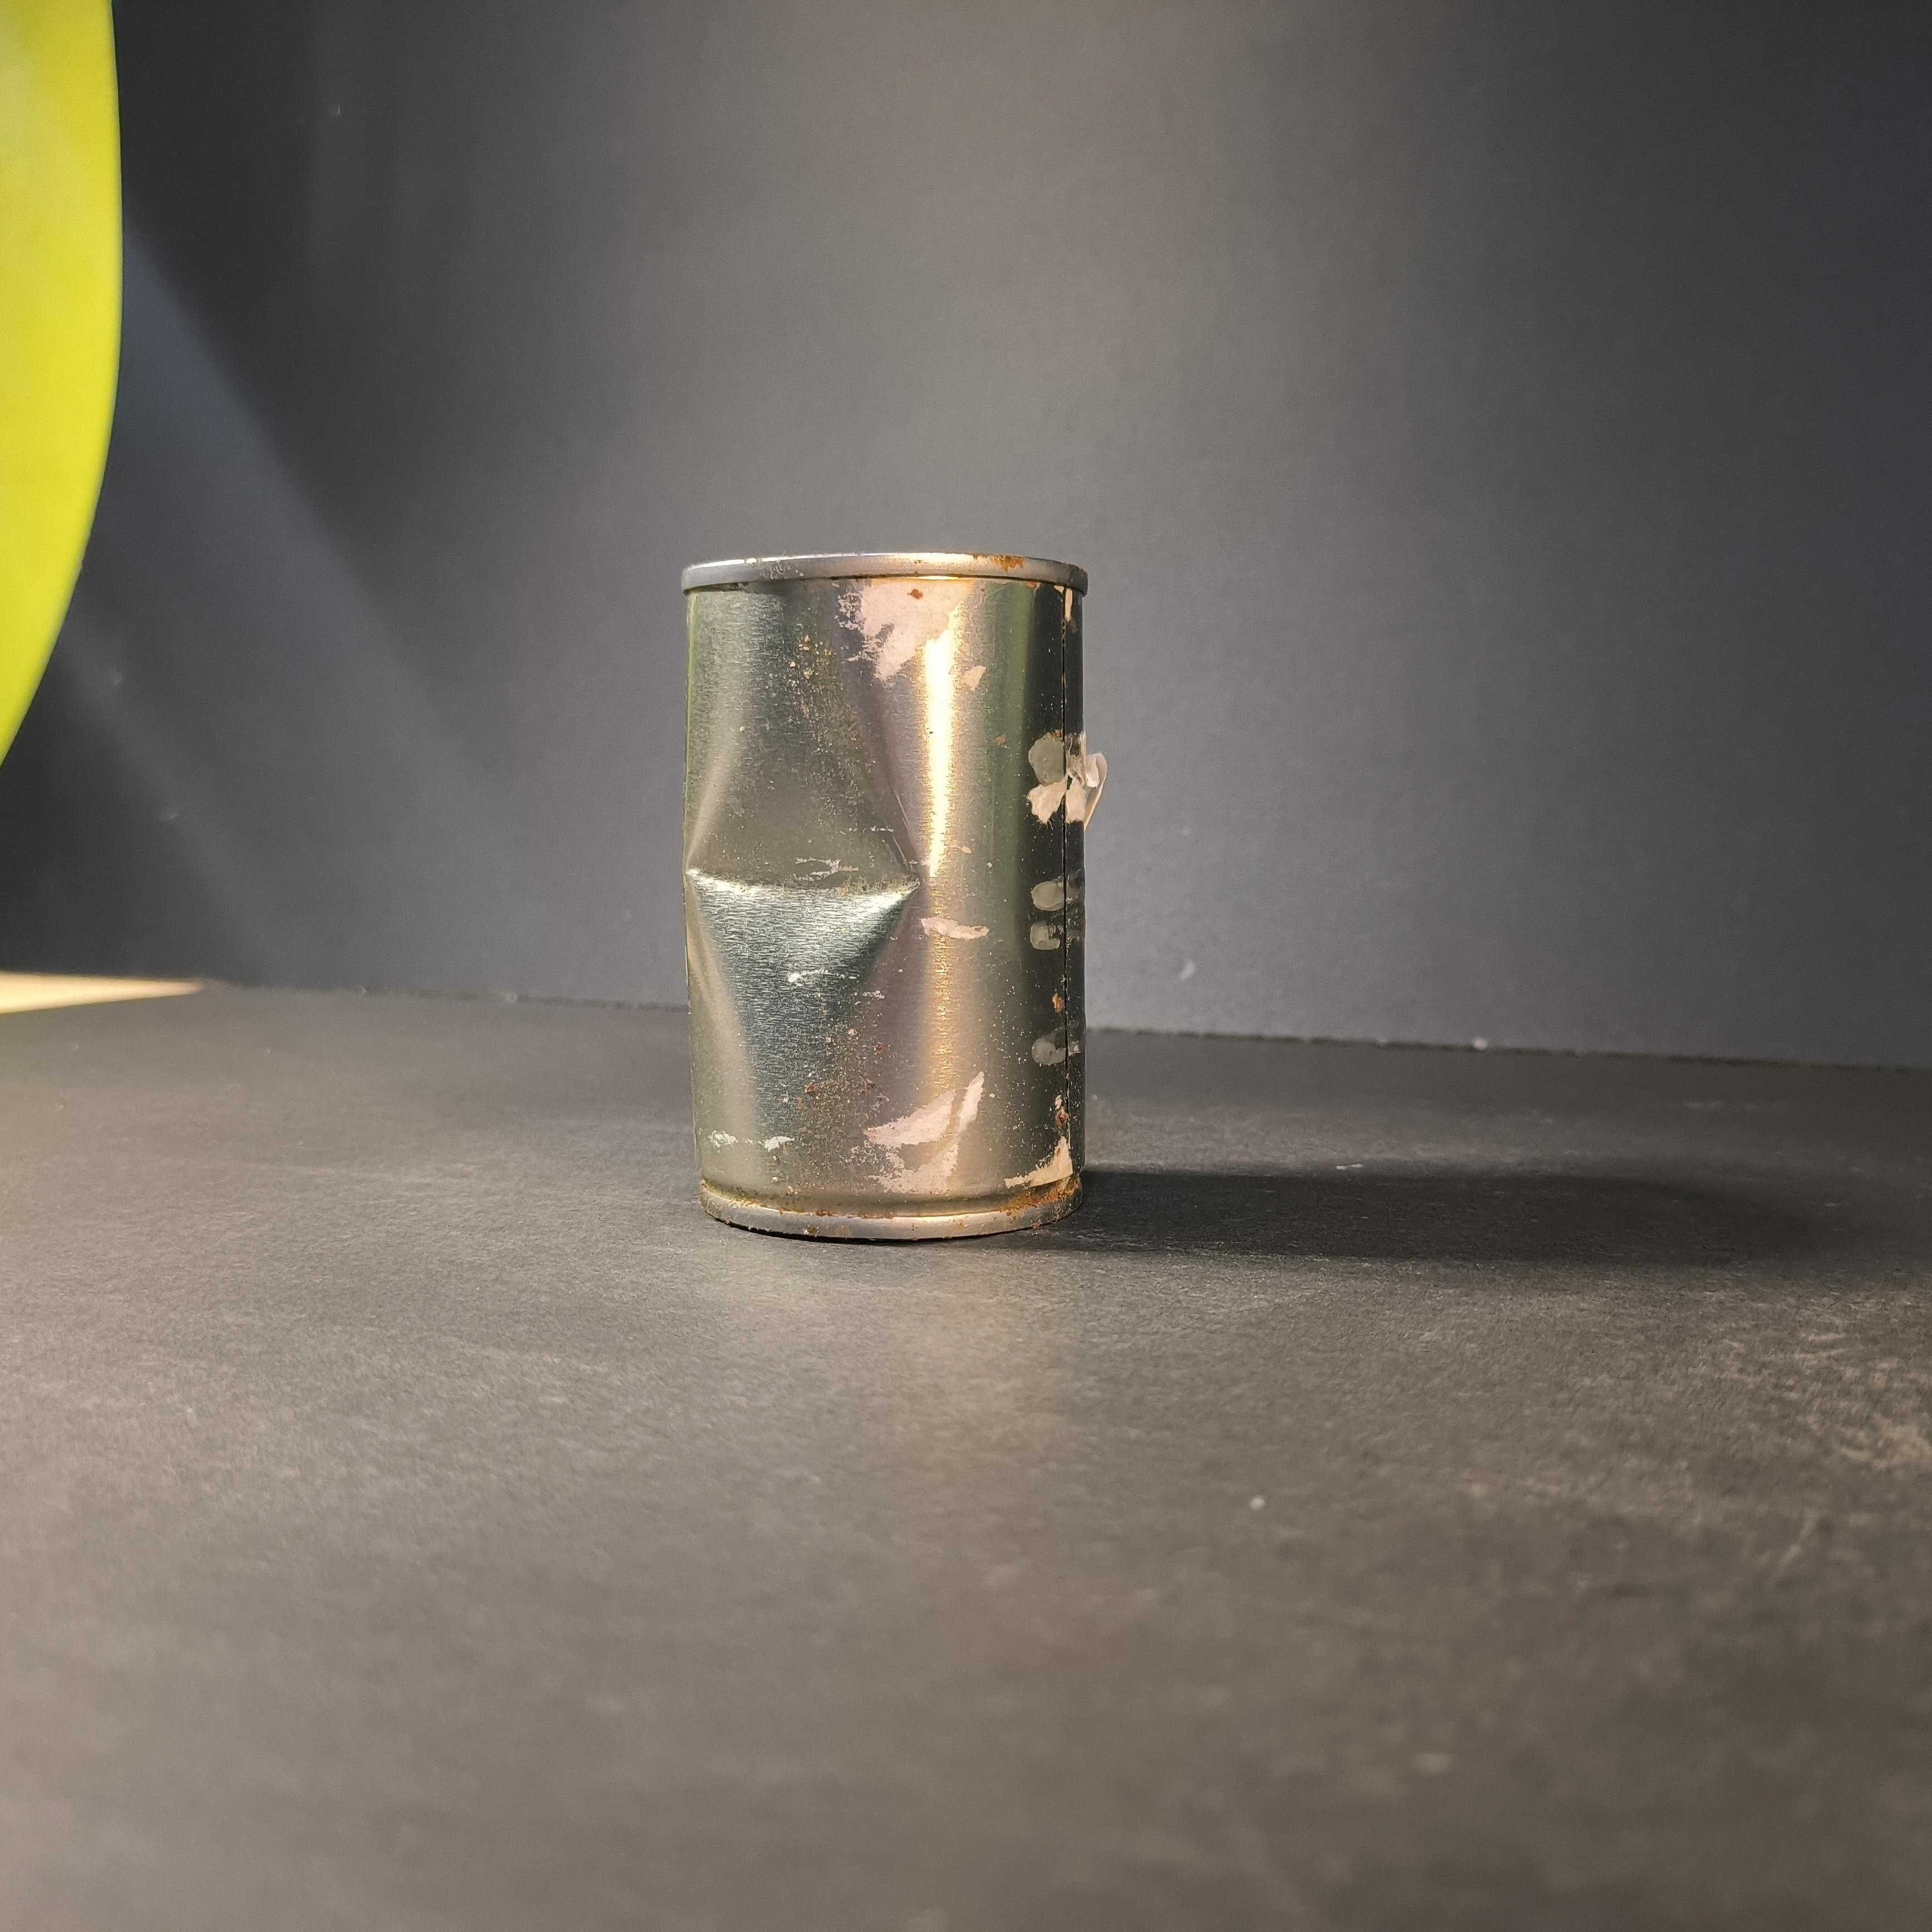Dented: (651, 525, 1138, 1260)
